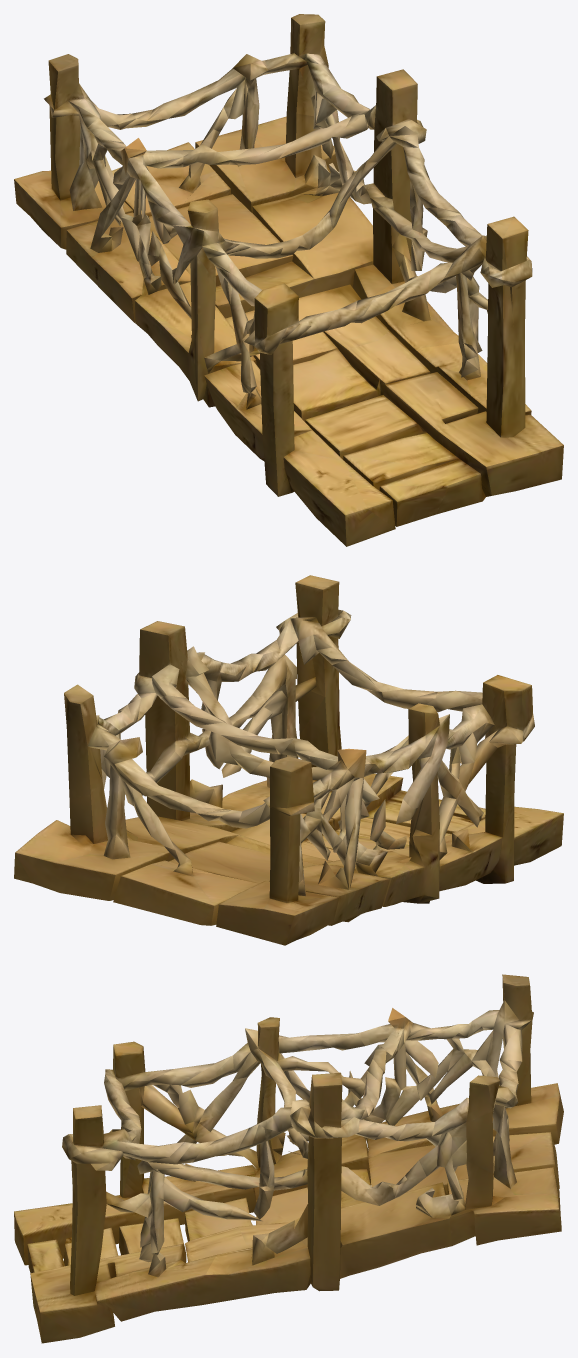
File: ropeBridge.glb
The picture shows the model from 3 angles, top to bottom: view 1: azimuth 30°, elevation 25°; view 2: azimuth 150°, elevation 25°; view 3: azimuth 270°, elevation 25°; orthographic projection. The views are drawn at different scales.
Visible parts, largest first — view 1: model; view 2: model; view 3: model.
Boxes of the visible parts, x1,y1,x2,y2 form: model: (14,14,563,546); model: (14,575,563,945); model: (14,974,563,1343).
Size of the model in its own units: 1.02 by 1 by 1.9.
1 material, 1 textured.
